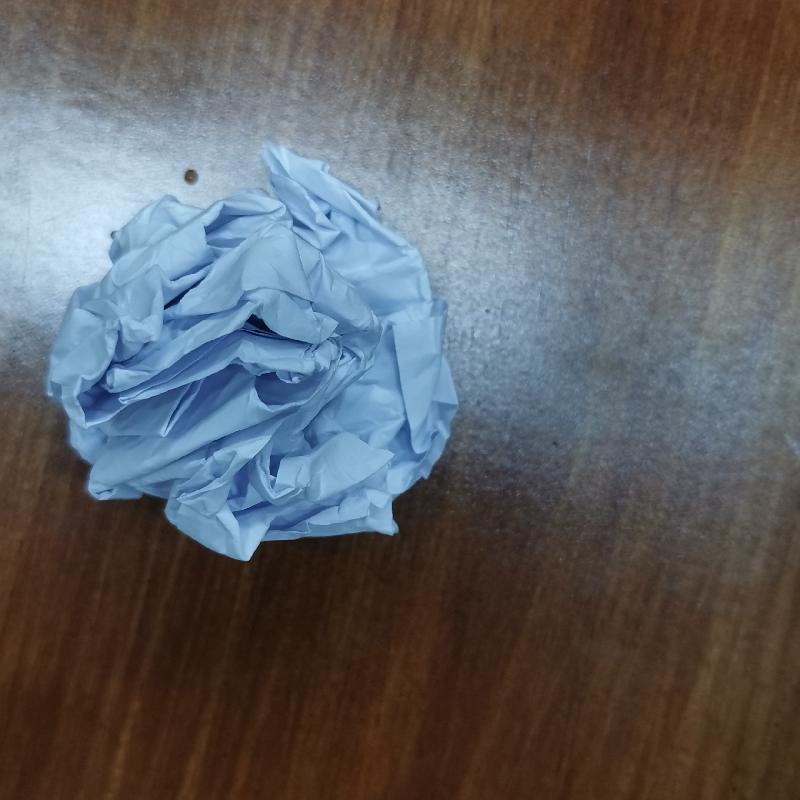spitball: (44, 142, 462, 565)
